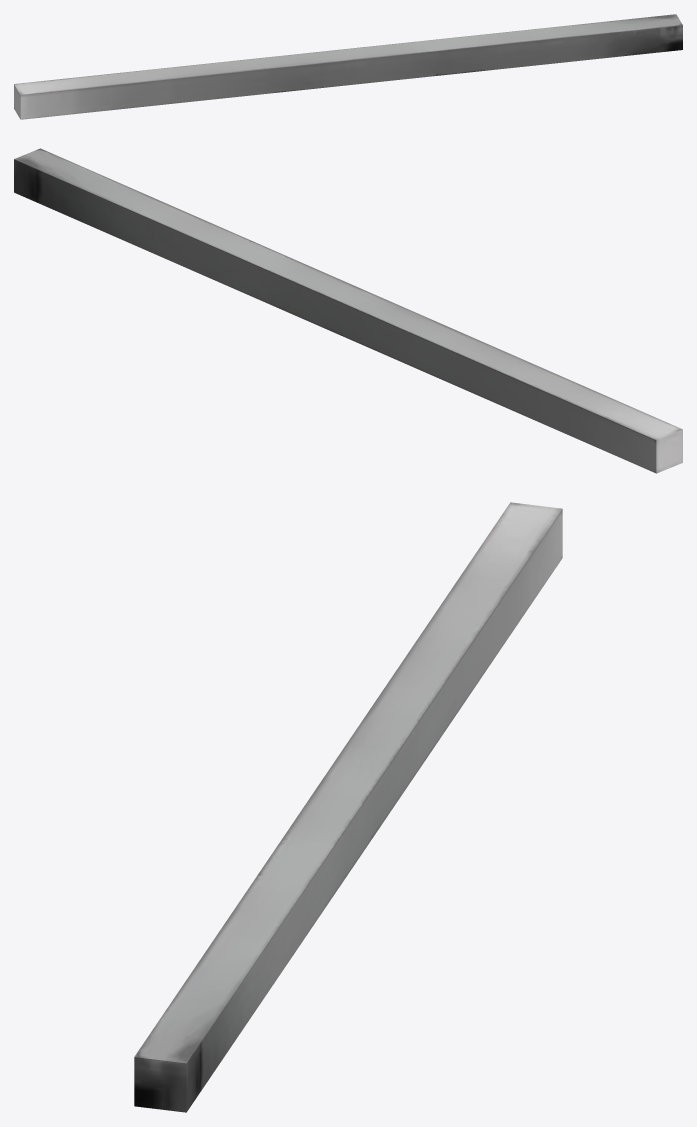
File: frame__back_side_rail_1.glb
3 renders of one model, top to bottom at view 1: azimuth 30°, elevation 25°; view 2: azimuth 150°, elevation 25°; view 3: azimuth 270°, elevation 25°, orthographic. The views are drawn at different scales.
Visible parts, largest first — view 1: world; view 2: world; view 3: world.
Part boxes in pixels (<box>): world: <box>14,14,682,119</box>; world: <box>14,148,682,473</box>; world: <box>134,502,562,1112</box>.
Bounding box in the file's own units: 0.8294 × 0.034 × 0.2677.
Materials: 1 (1 with a texture image).
